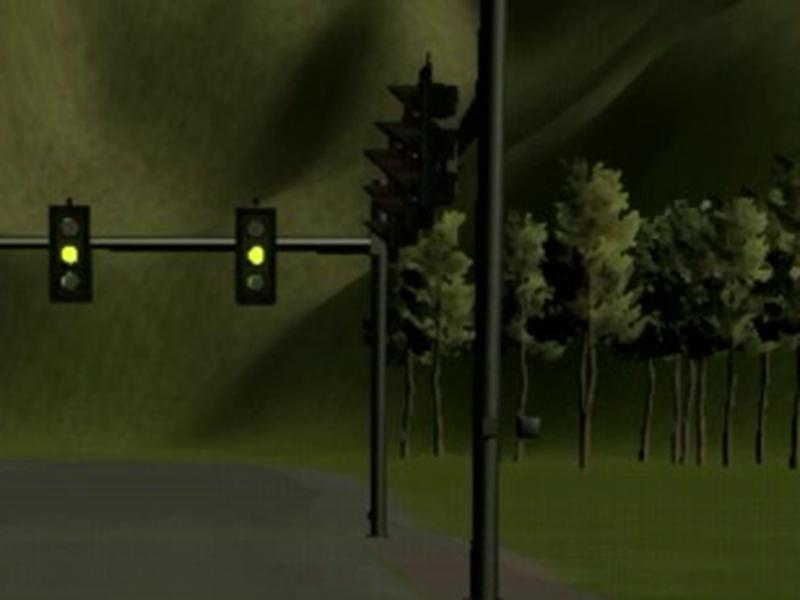Yellow: (47, 204, 91, 303), (235, 207, 275, 305)
